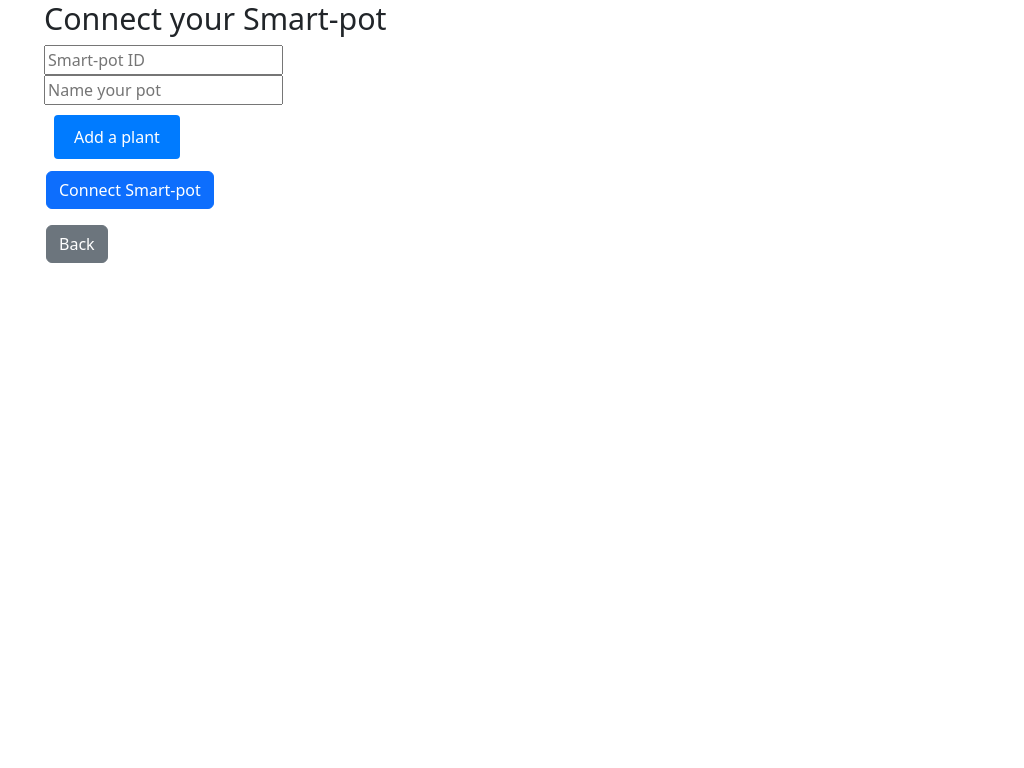
Searching for a plant in plant template
This screenshot has width=1024, height=768.
Click the text "Add a plant" at (117, 136), box [54,114,180,158]
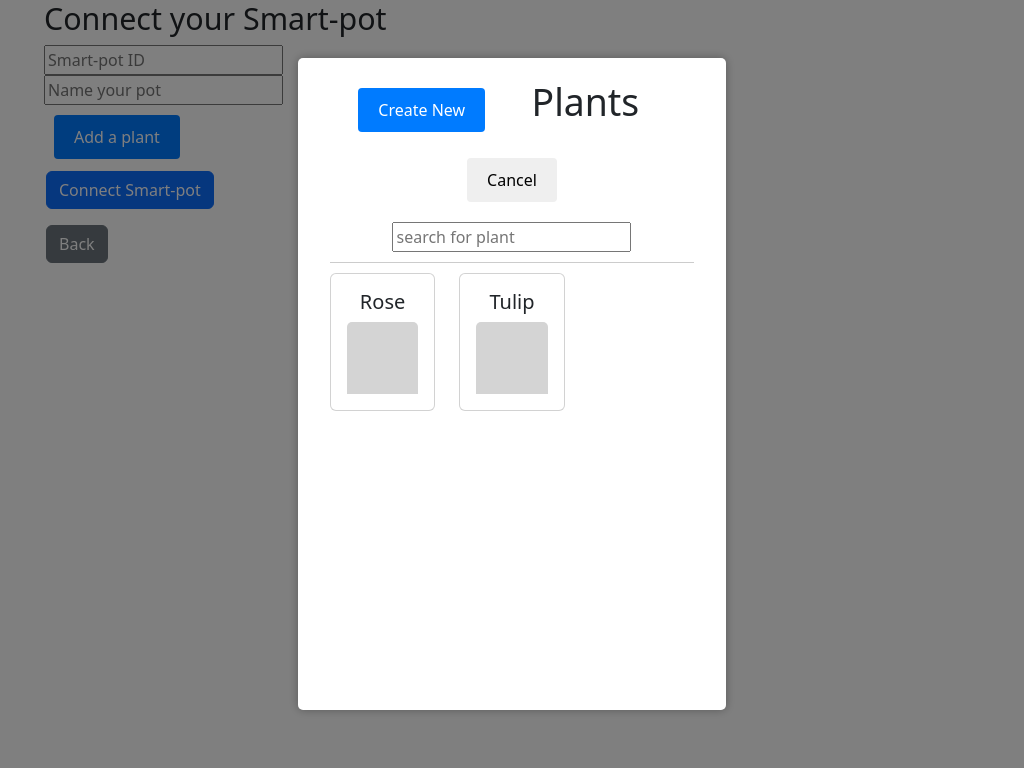
expect the number of elements with test id "plant-template" is 2: met, box [330,273,435,411]; [459,273,565,411]
Type "rose" into the field with placeholder "search for plant" at (512, 237), box [392,222,632,252]
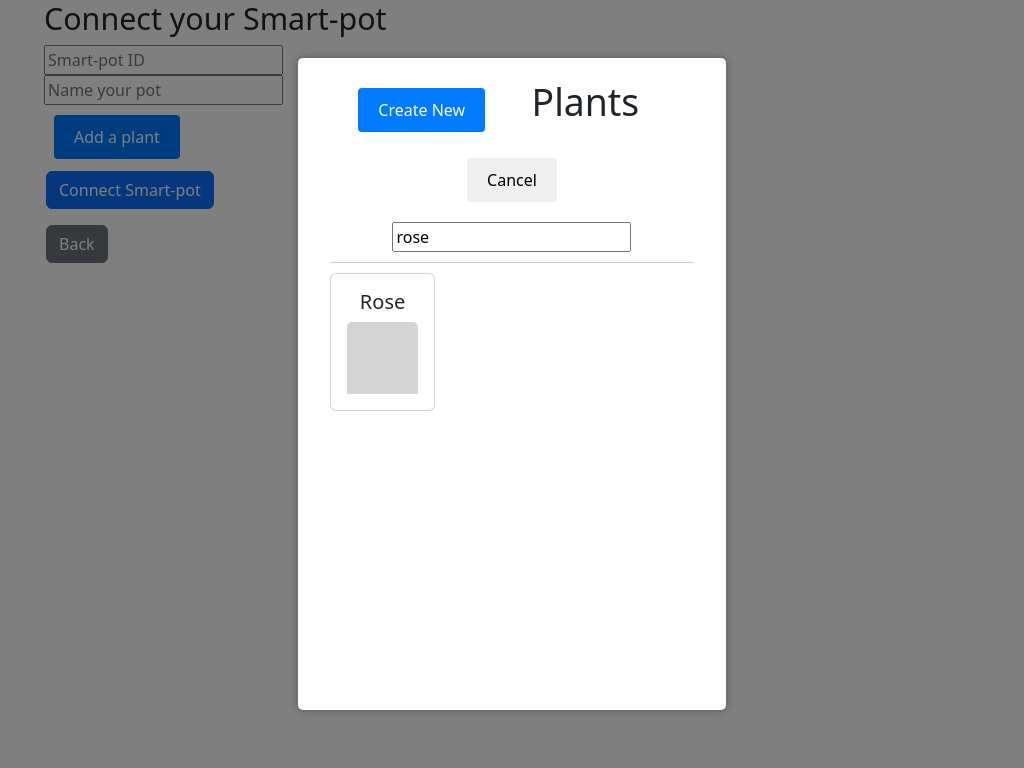
expect the heading "Rose" is shown: met, box [360,288,405,315]
expect the heading "Tulip" is gone: met
